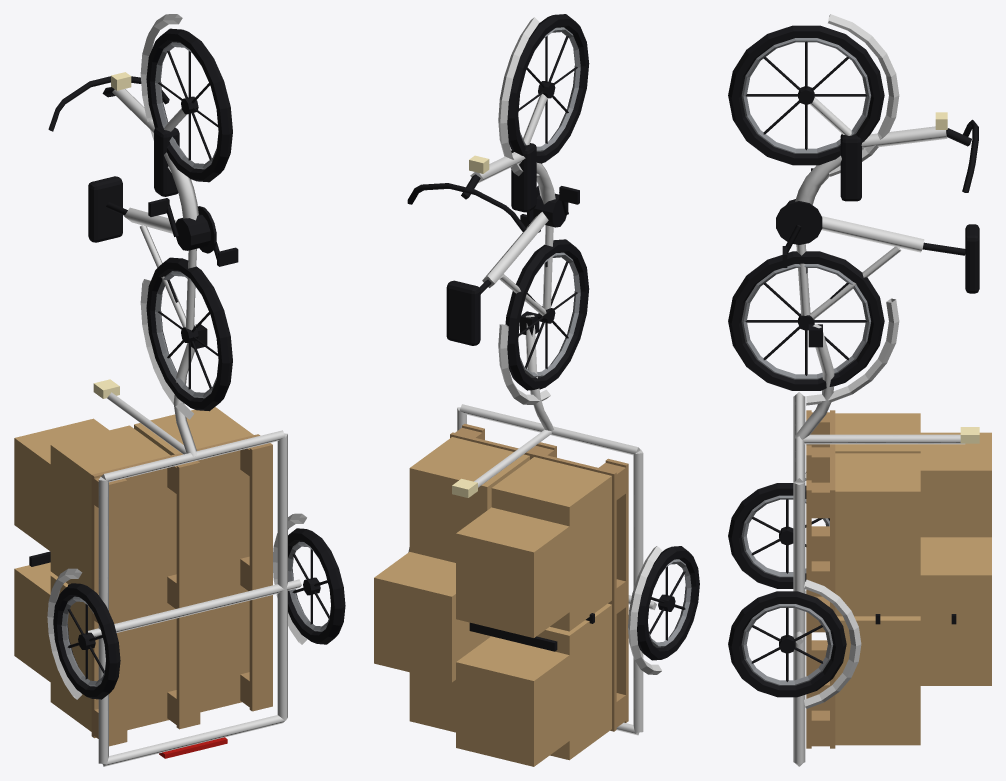
Rendered from SolarpunkCargoBikePallet01.fbx.
3 views of the same model, side by side, from view 1: azimuth 30°, elevation 25°; view 2: azimuth 150°, elevation 25°; view 3: azimuth 270°, elevation 25° (orthographic).
Visible parts, largest first — view 1: SolarpunkCargoBikePallet01; view 2: SolarpunkCargoBikePallet01; view 3: SolarpunkCargoBikePallet01.
Boxes of the visible parts, x1=… form: SolarpunkCargoBikePallet01: x1=14, y1=14, x2=345, y2=766; SolarpunkCargoBikePallet01: x1=374, y1=14, x2=699, y2=766; SolarpunkCargoBikePallet01: x1=728, y1=14, x2=991, y2=766.
Bounding box in the file's own units: 113 × 332 × 111.
Materials: 1 (1 with a texture image).
